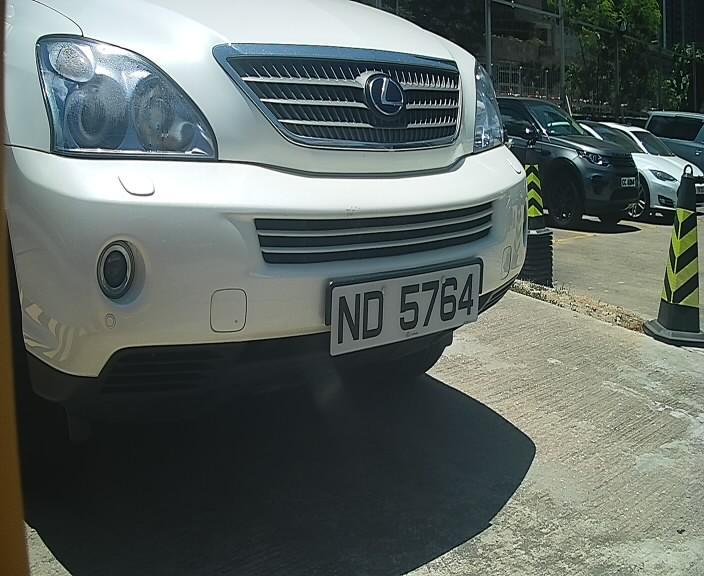privatecar: (4, 13, 547, 499)
